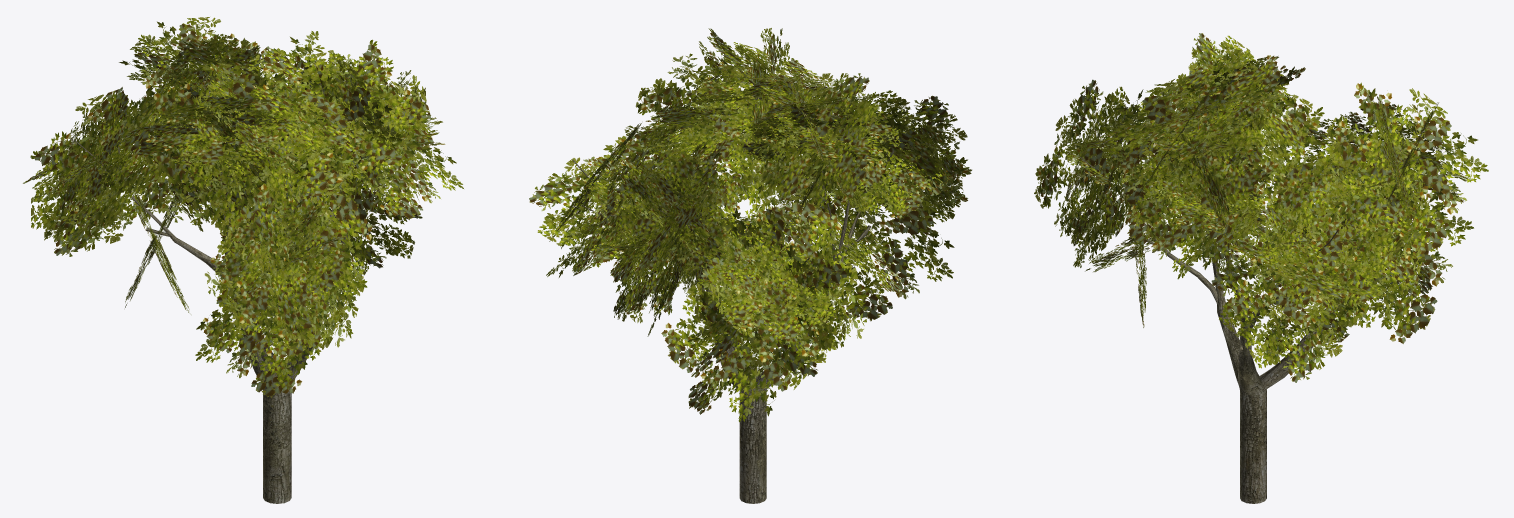
The model's file is Flowering_Dogwood_Model_0.obj.
The picture shows the model from 3 angles, left to right: view 1: azimuth 30°, elevation 25°; view 2: azimuth 150°, elevation 25°; view 3: azimuth 270°, elevation 25°; orthographic projection. The views are drawn at different scales.
Visible parts, largest first — view 1: Foliage__leafcard, Bark; view 2: Foliage__leafcard, Bark; view 3: Foliage__leafcard, Bark.
Part boxes in pixels (bbox=[...]): Foliage__leafcard: bbox=[23, 17, 463, 398]; Bark: bbox=[70, 69, 406, 503]; Foliage__leafcard: bbox=[529, 28, 971, 421]; Bark: bbox=[572, 68, 946, 503]; Foliage__leafcard: bbox=[1034, 33, 1488, 382]; Bark: bbox=[1071, 95, 1424, 503].
Bounding box in the file's own units: 6.34 × 7.5 × 7.18.
Materials: 2 (2 with a texture image).
